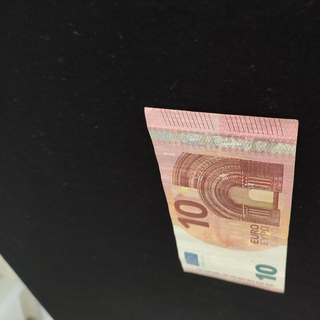10EUROFront: (143, 105, 299, 294)
